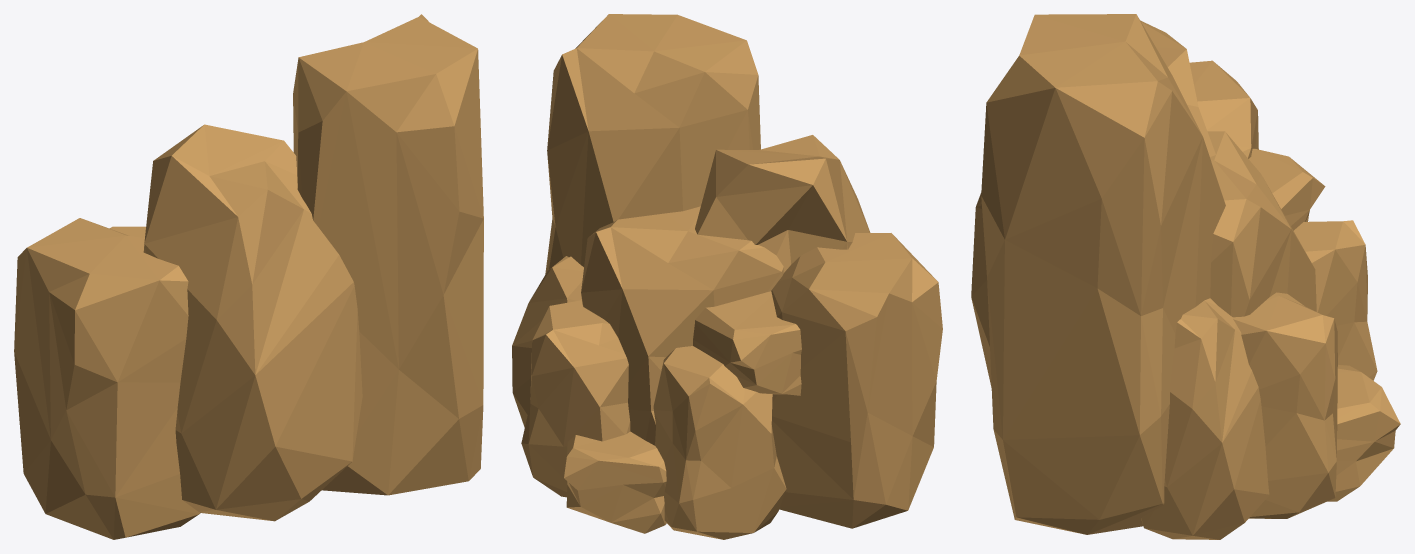
File: cliff_02.fbx
The picture shows the model from 3 angles, left to right: view 1: azimuth 30°, elevation 25°; view 2: azimuth 150°, elevation 25°; view 3: azimuth 270°, elevation 25°; orthographic projection. The views are drawn at different scales.
Visible parts, largest first — view 1: cliff_03; view 2: cliff_03; view 3: cliff_03.
Boxes of the visible parts, x1,y1,x2,y2 form: cliff_03: (14, 14, 483, 539); cliff_03: (512, 14, 942, 539); cliff_03: (971, 14, 1400, 539).
Bounding box in the file's own units: 406 × 331 × 398.
